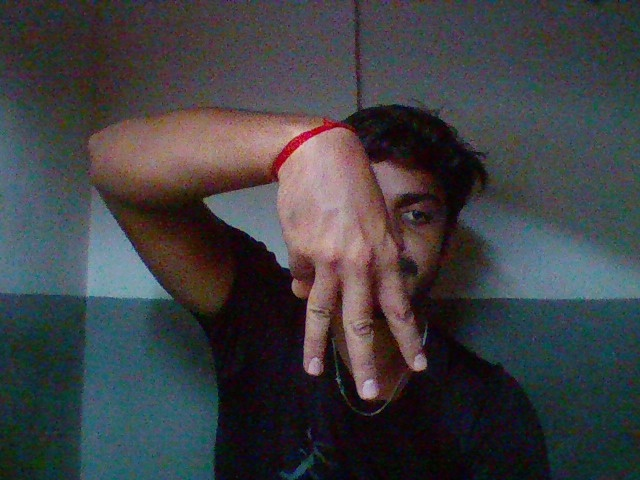M: (267, 125, 437, 412)
